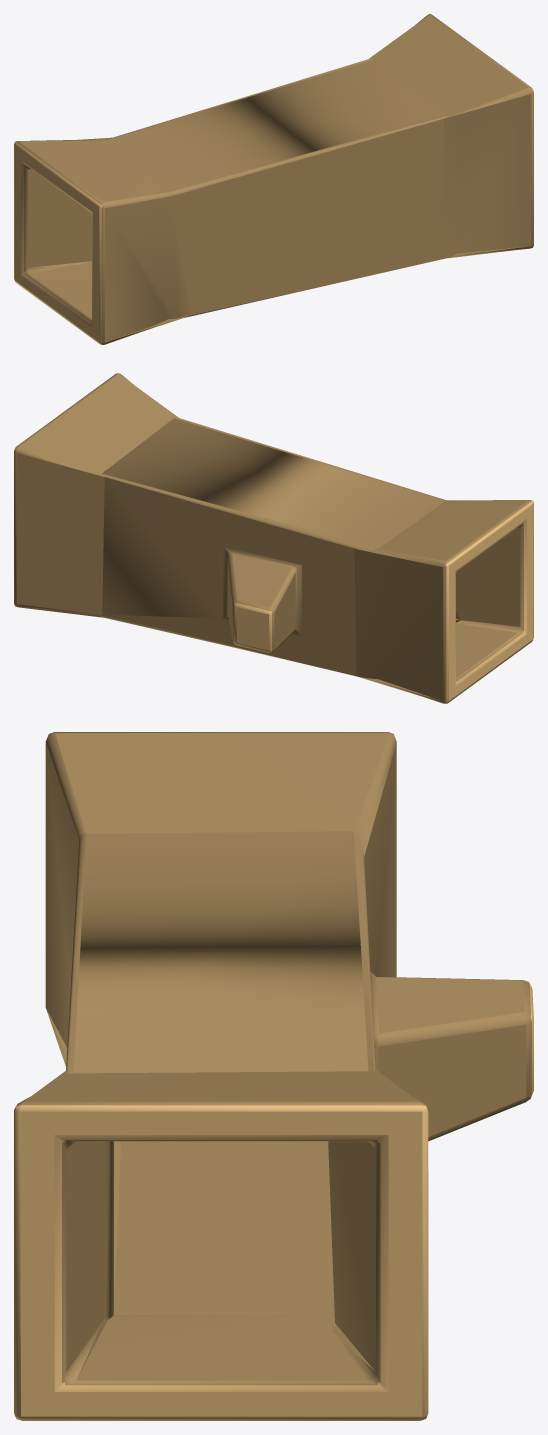
Rendered from Fallen_Trunk_01.obj.
The picture shows the model from 3 angles, top to bottom: view 1: azimuth 30°, elevation 25°; view 2: azimuth 150°, elevation 25°; view 3: azimuth 270°, elevation 25°; orthographic projection. The views are drawn at different scales.
Visible parts, largest first — view 1: Fallen_Trunk_01; view 2: Fallen_Trunk_01; view 3: Fallen_Trunk_01.
Part boxes in pixels (x1,y1,x2,y2): Fallen_Trunk_01: [14, 14, 533, 344]; Fallen_Trunk_01: [14, 373, 533, 703]; Fallen_Trunk_01: [14, 732, 533, 1420].
Size of the model in its own units: 2.19 by 0.8004 by 1.17.
